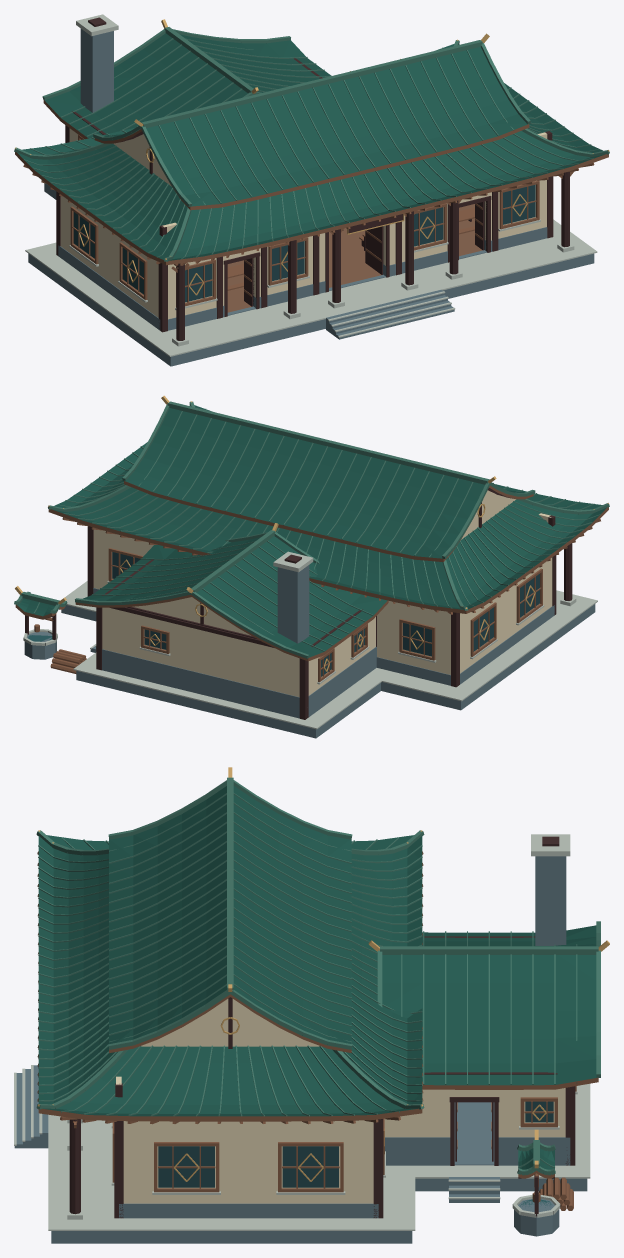
The model's file is dining_hall_kitchen.glb.
The picture shows the model from 3 angles, top to bottom: view 1: azimuth 30°, elevation 25°; view 2: azimuth 150°, elevation 25°; view 3: azimuth 270°, elevation 25°; orthographic projection. The views are drawn at different scales.
Visible parts, largest first — view 1: DiningHallKitchen / Jade, DiningHallKitchen / TileLight, DiningHallKitchen / Coping, DiningHallKitchen / Stone, DiningHallKitchen / Timber, DiningHallKitchen / Cedar, DiningHallKitchen / Plaster, DiningHallKitchen / Window, DiningHallKitchen / Floor, DiningHallKitchen / Bronze; view 2: DiningHallKitchen / Jade, DiningHallKitchen / Plaster, DiningHallKitchen / TileLight, DiningHallKitchen / Stone, DiningHallKitchen / Cedar, DiningHallKitchen / Coping, DiningHallKitchen / Timber, DiningHallKitchen / Window, DiningHallKitchen / Bronze; view 3: DiningHallKitchen / Jade, DiningHallKitchen / TileLight, DiningHallKitchen / Plaster, DiningHallKitchen / Stone, DiningHallKitchen / Coping, DiningHallKitchen / Cedar, DiningHallKitchen / Timber, DiningHallKitchen / Window, DiningHallKitchen / Bronze.
Part boxes in pixels (x1=…): DiningHallKitchen / Jade: x1=17, y1=33, x2=604, y2=260; DiningHallKitchen / TileLight: x1=14, y1=27, x2=609, y2=261; DiningHallKitchen / Coping: x1=25, y1=14, x2=597, y2=356; DiningHallKitchen / Stone: x1=28, y1=28, x2=594, y2=366; DiningHallKitchen / Timber: x1=56, y1=17, x2=569, y2=340; DiningHallKitchen / Cedar: x1=15, y1=100, x2=608, y2=307; DiningHallKitchen / Plaster: x1=60, y1=128, x2=547, y2=319; DiningHallKitchen / Window: x1=73, y1=184, x2=535, y2=302; DiningHallKitchen / Floor: x1=227, y1=204, x2=482, y2=312; DiningHallKitchen / Bronze: x1=15, y1=19, x2=609, y2=295; DiningHallKitchen / Jade: x1=17, y1=405, x2=606, y2=657; DiningHallKitchen / Plaster: x1=93, y1=490, x2=552, y2=697; DiningHallKitchen / TileLight: x1=14, y1=401, x2=609, y2=658; DiningHallKitchen / Stone: x1=24, y1=565, x2=595, y2=738; DiningHallKitchen / Cedar: x1=15, y1=481, x2=608, y2=682; DiningHallKitchen / Coping: x1=23, y1=551, x2=597, y2=729; DiningHallKitchen / Timber: x1=25, y1=488, x2=572, y2=719; DiningHallKitchen / Window: x1=112, y1=552, x2=539, y2=676; DiningHallKitchen / Bronze: x1=15, y1=395, x2=609, y2=671; DiningHallKitchen / Jade: x1=38, y1=786, x2=596, y2=1169; DiningHallKitchen / TileLight: x1=36, y1=777, x2=600, y2=1175; DiningHallKitchen / Plaster: x1=116, y1=999, x2=565, y2=1203; DiningHallKitchen / Stone: x1=14, y1=856, x2=587, y2=1243; DiningHallKitchen / Coping: x1=14, y1=834, x2=590, y2=1230; DiningHallKitchen / Cedar: x1=37, y1=851, x2=598, y2=1210; DiningHallKitchen / Timber: x1=69, y1=836, x2=575, y2=1218; DiningHallKitchen / Window: x1=158, y1=1101, x2=553, y2=1187; DiningHallKitchen / Bronze: x1=37, y1=767, x2=609, y2=1181.
Bounding box in the file's own units: 23.15 × 9.26 × 21.12.
